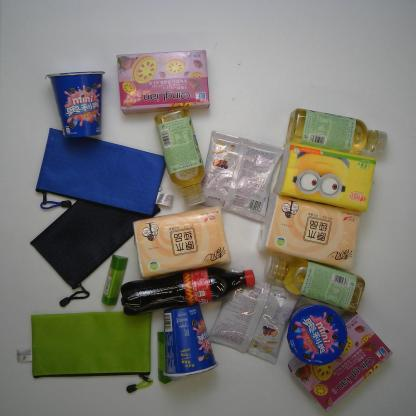Dessert: (288, 310, 392, 413), (116, 50, 211, 115), (163, 304, 219, 382), (45, 71, 104, 138), (287, 303, 347, 366)
Drink: (121, 268, 256, 316), (264, 256, 366, 313), (153, 106, 206, 207), (286, 108, 388, 155)
Instant Drink: (207, 270, 306, 365), (198, 130, 286, 224)
Stationery: (29, 158, 162, 306), (36, 129, 168, 216), (17, 311, 153, 393), (101, 254, 128, 306), (157, 331, 172, 383)
Tissue: (256, 194, 361, 272), (273, 142, 376, 213), (133, 206, 231, 280)
